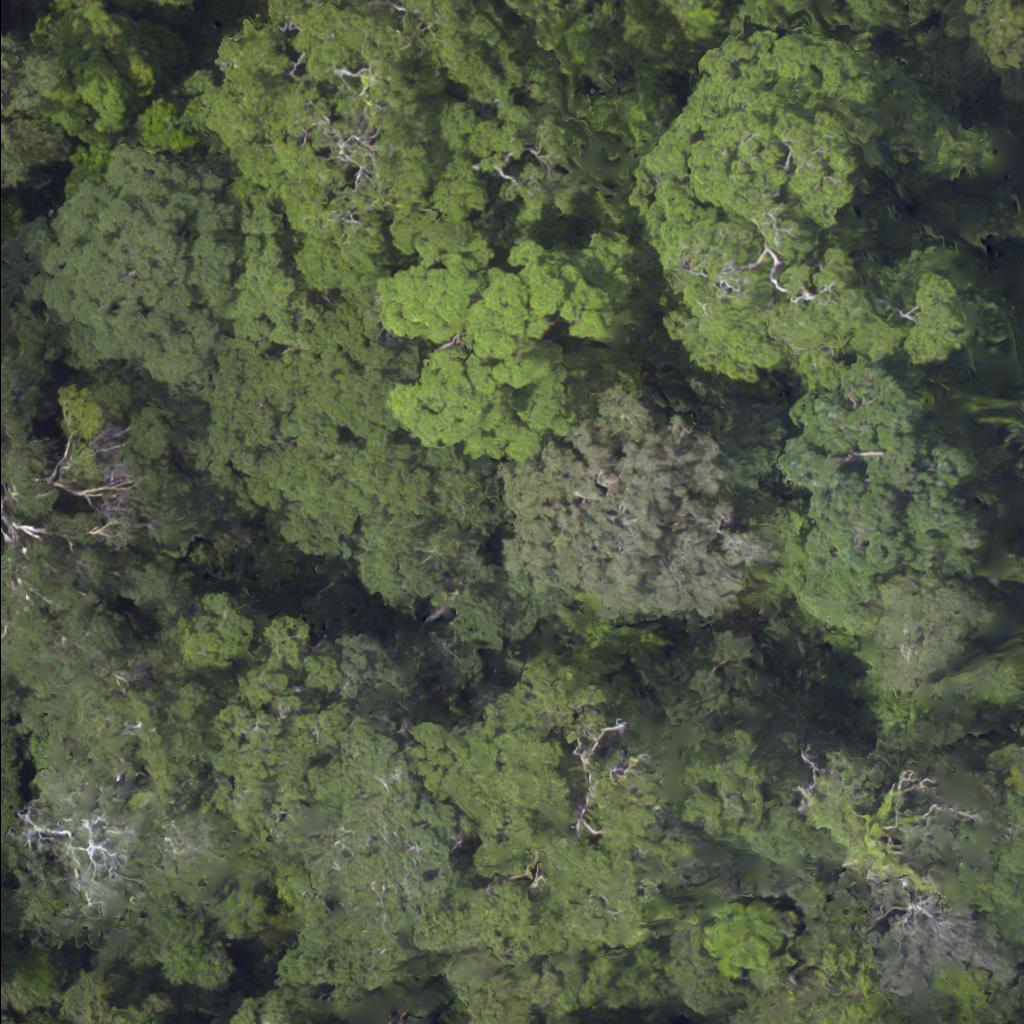crown: (21, 141, 239, 388), (0, 45, 62, 185), (319, 0, 443, 14)
